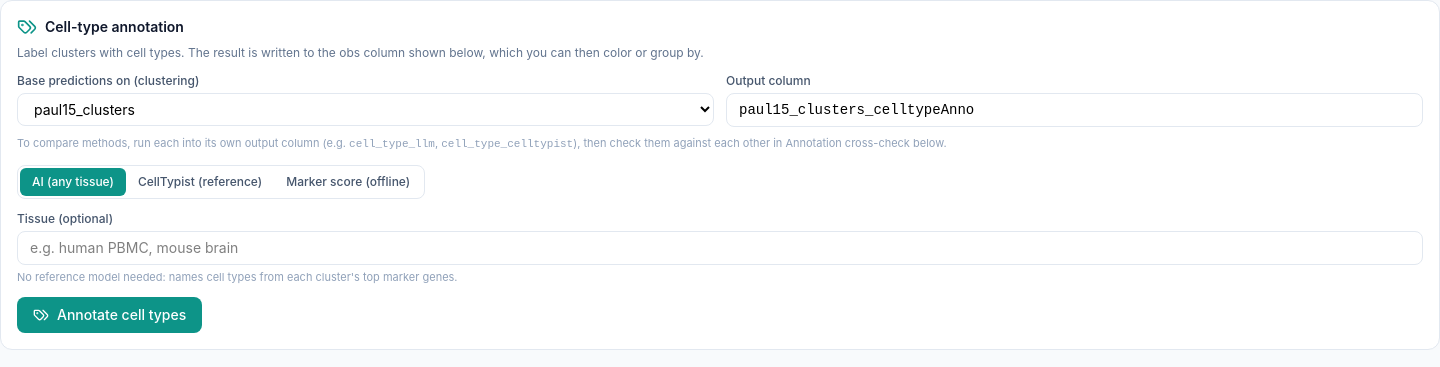
Scenario: AnnotationControl (CellTypist) › lists mouse models first for a mouse dataset, preselects none, and warns on a human pick
This screenshot has width=1440, height=367.
Step 1. Click the button "CellTypist (reference)" → click(200, 182), box [126,168,274,196]
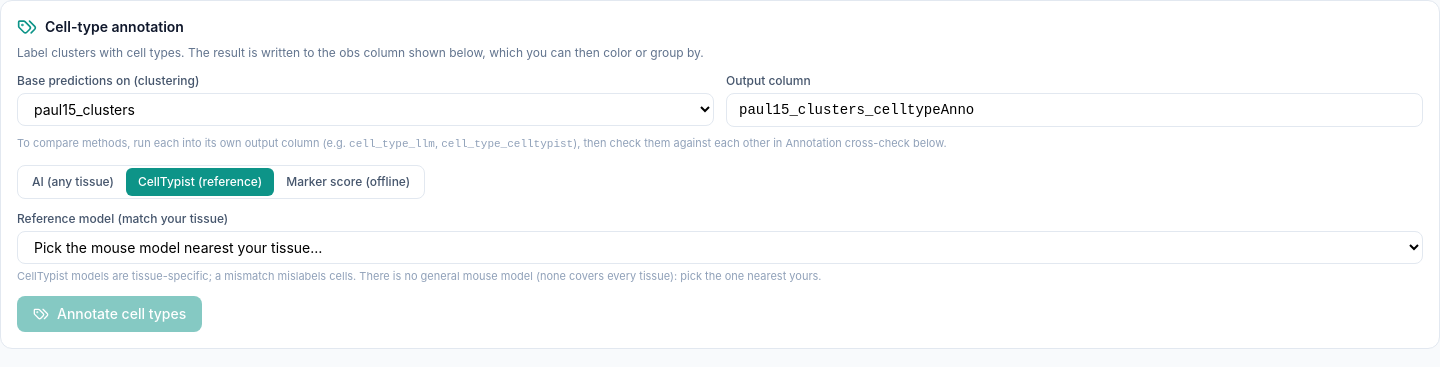
Now the dropdown named "CellTypist model" shows "Pick the mouse model nearest your tissue…"
Now the button "Annotate cell types" is disabled, box [17,296,202,332]
Step 2. Select "Adult_Mouse_Gut — adult mouse gut" in the dropdown named "CellTypist model" → (720, 247), box [17,230,1423,264]
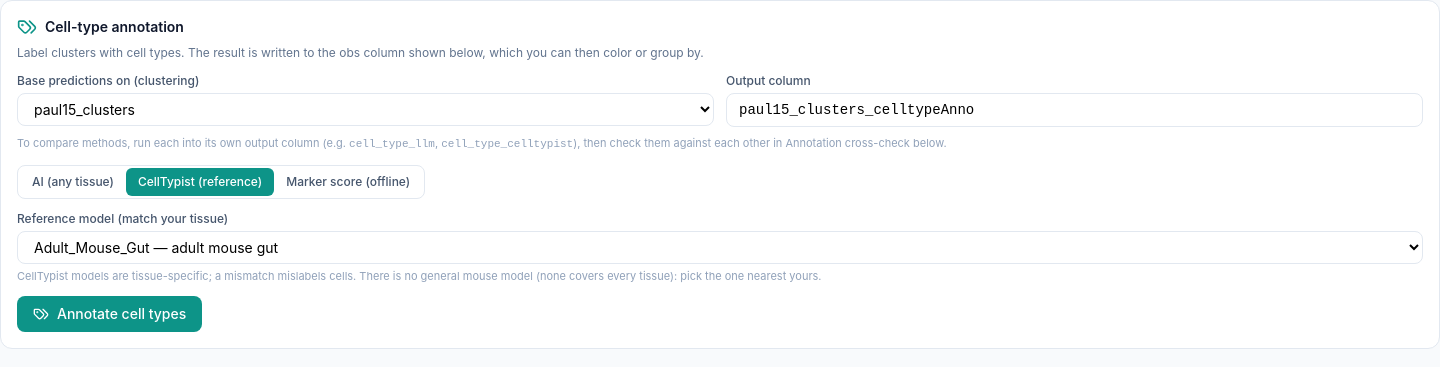
Now the button "Annotate cell types" is enabled, box [17,296,202,332]
Step 3. Select "Immune_All_Low — immune sub-populations" in the dropdown named "CellTypist model" → (720, 247), box [17,230,1423,264]
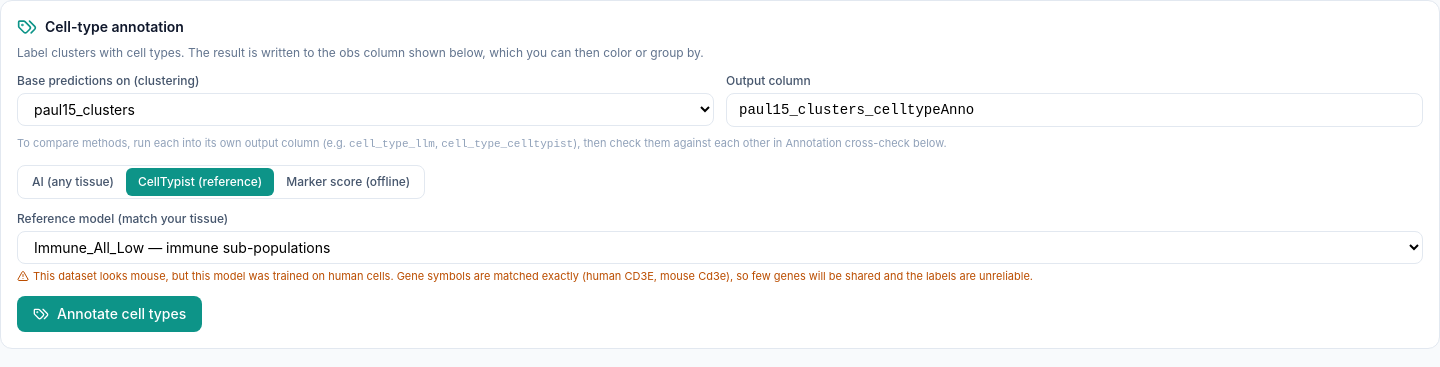
Now the message shows "looks mouse, but this model was trained on human cells", box [33,268,1033,282]
